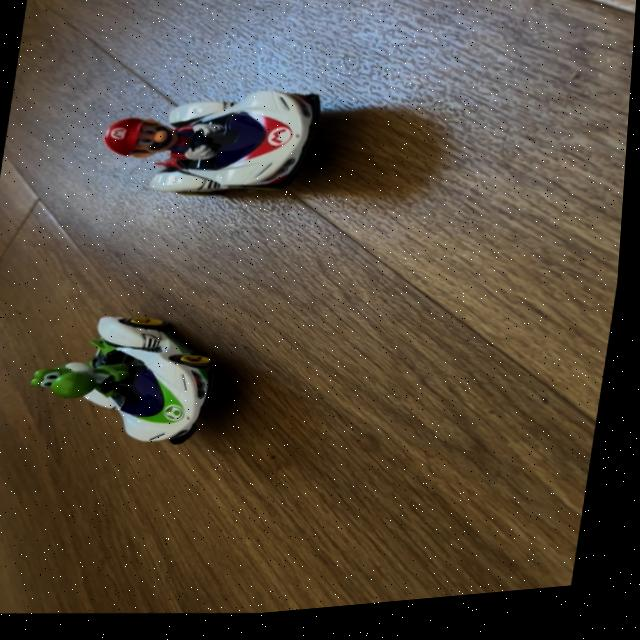mario: (54, 60, 339, 230)
yoshi: (10, 293, 261, 469)
